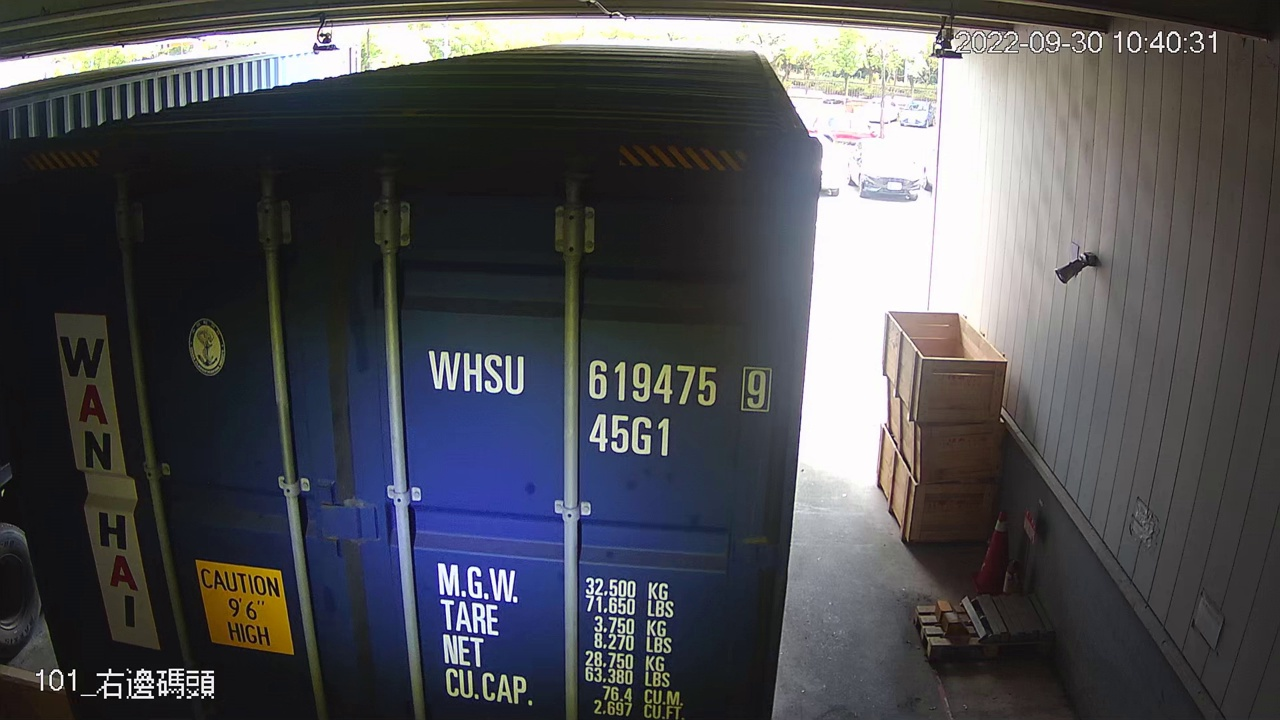container: (419, 339, 777, 464)
